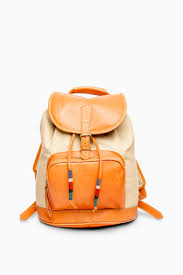backpack: (19, 85, 163, 228)
